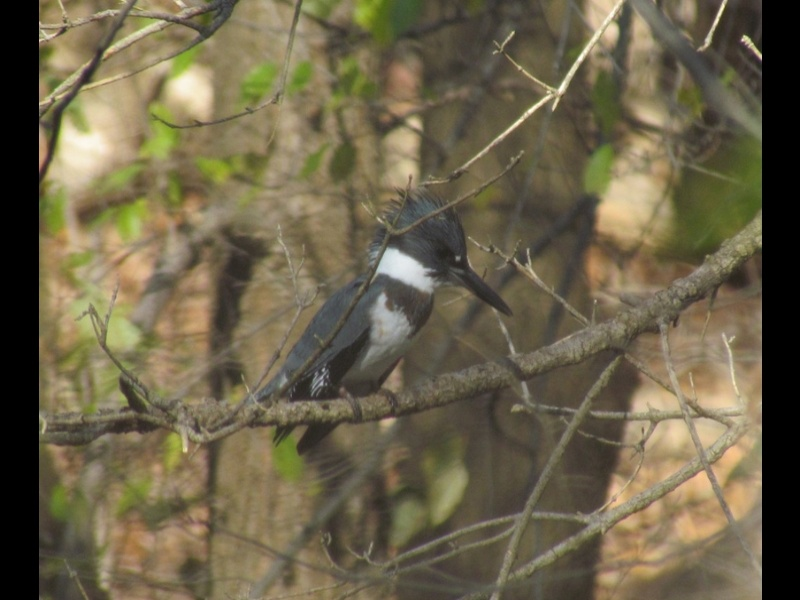kingfisher: (249, 189, 516, 453)
